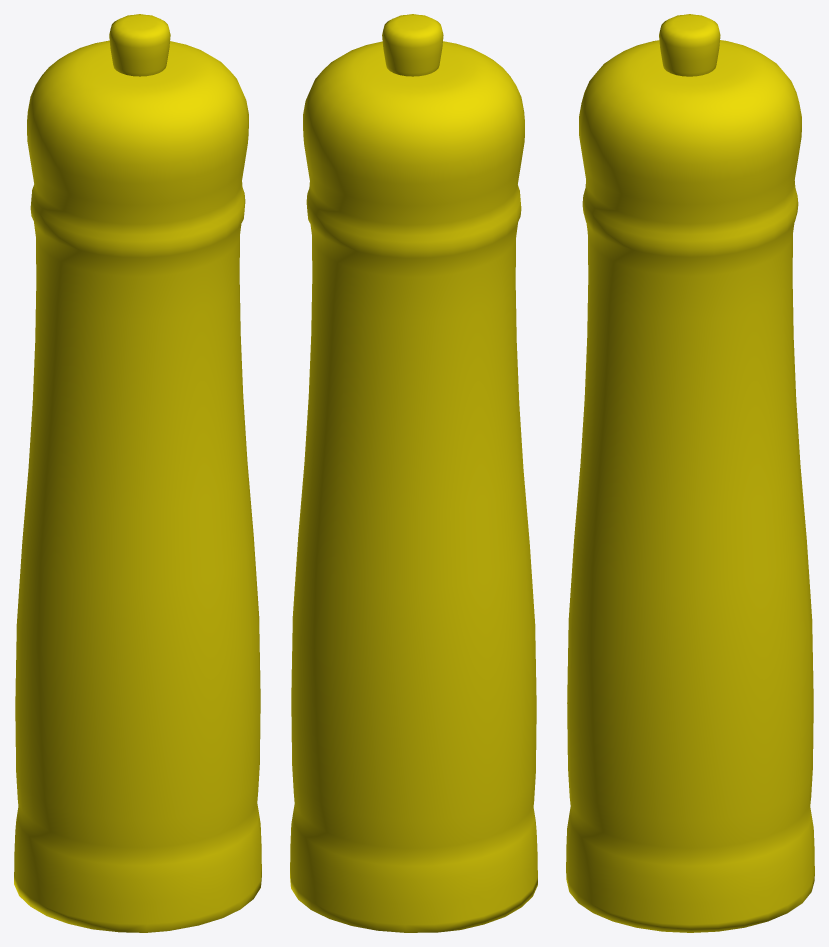
The model's file is Pepper.fbx.
3 renders of one model, left to right at view 1: azimuth 30°, elevation 25°; view 2: azimuth 150°, elevation 25°; view 3: azimuth 270°, elevation 25°, orthographic.
Parts seen in each view (by area): view 1: Pepper; view 2: Pepper; view 3: Pepper.
Part boxes in pixels (x1,y1,x2,y2): Pepper: [14, 14, 261, 932]; Pepper: [290, 14, 537, 932]; Pepper: [566, 14, 814, 932].
Size of the model in its own units: 37.38 by 142 by 37.35.
